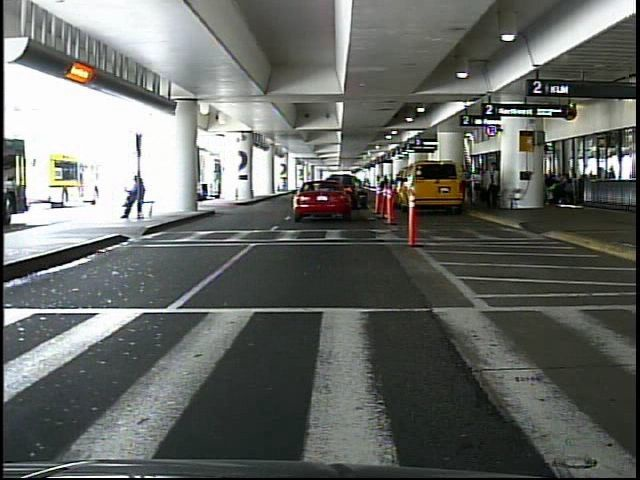person: (484, 162, 502, 209), (470, 166, 486, 210), (482, 169, 493, 207)
